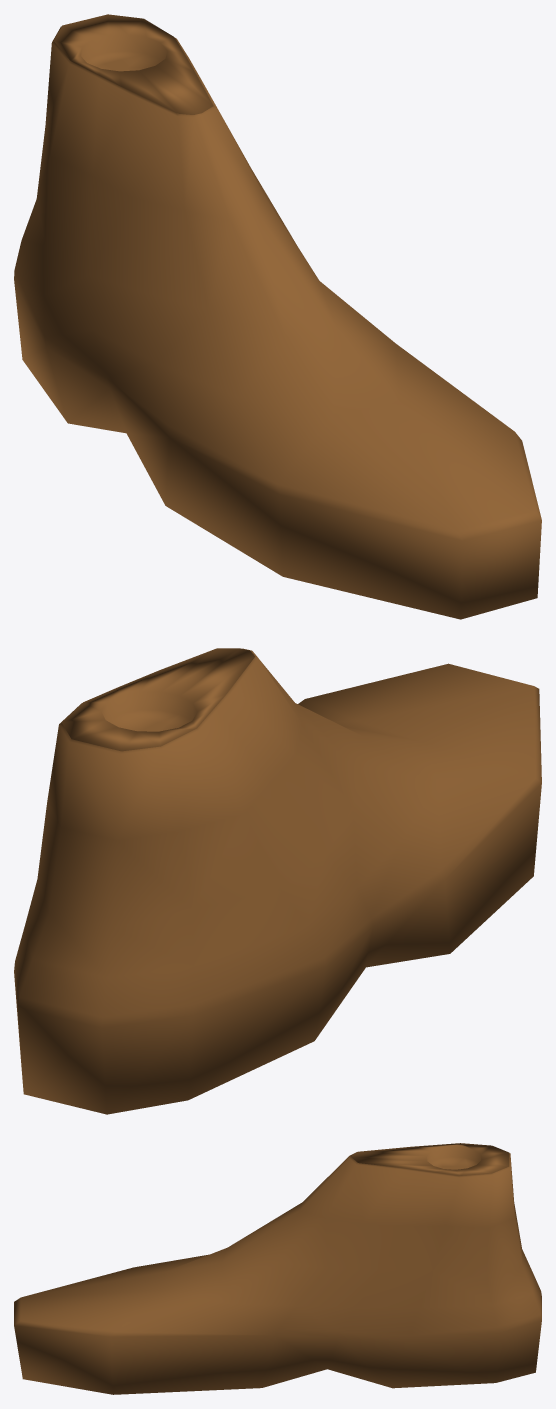
The model's file is shoeForm.fbx.
3 renders of one model, top to bottom at view 1: azimuth 30°, elevation 25°; view 2: azimuth 150°, elevation 25°; view 3: azimuth 270°, elevation 25°, orthographic. The views are drawn at different scales.
Parts seen in each view (by area): view 1: Cube; view 2: Cube; view 3: Cube.
Part boxes in pixels (box(x1,y1,x2,y2)): Cube: box(14, 14, 541, 619); Cube: box(14, 648, 541, 1114); Cube: box(14, 1143, 541, 1394).
Bounding box in the file's own units: 95.27 × 111 × 266.
